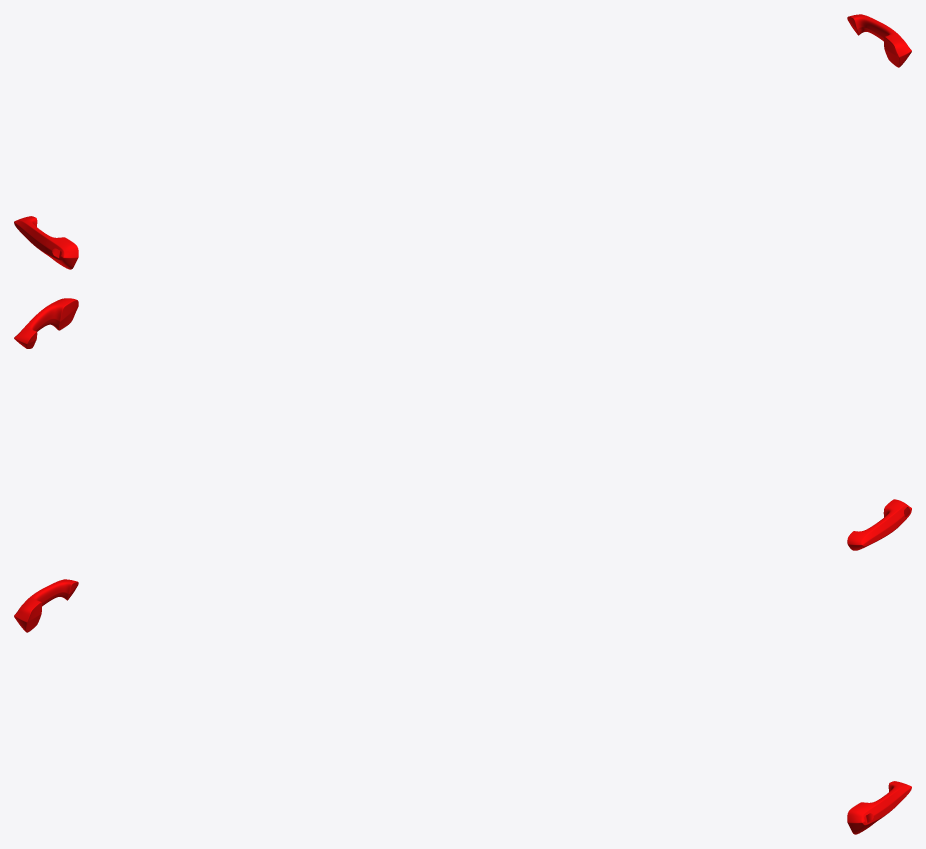
File: MK5doorshandles.glb
The picture shows the model from 3 angles, top to bottom: view 1: azimuth 30°, elevation 25°; view 2: azimuth 150°, elevation 25°; view 3: azimuth 330°, elevation 25°; orthographic projection.
Visible parts, largest first — view 1: Object_28; view 2: Object_28; view 3: Object_28.
Boxes of the visible parts, box(x1,y1,x2,y2) form: Object_28: box(14, 14, 911, 269); Object_28: box(14, 298, 911, 550); Object_28: box(14, 579, 911, 834).
Size of the model in its own units: 1.25 by 0.0367 by 0.1314.
